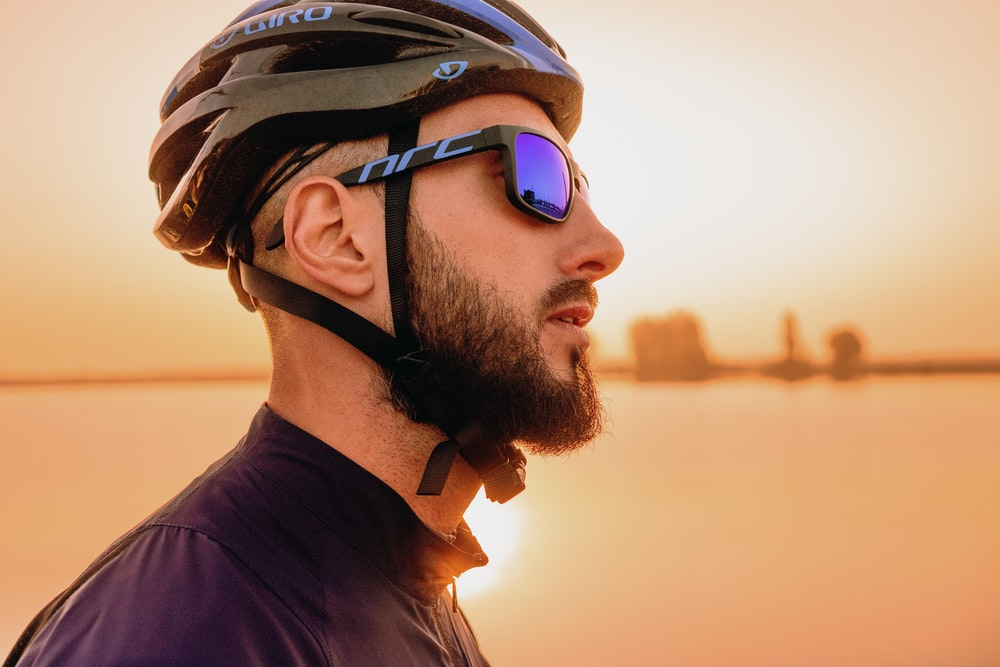helmet: (147, 1, 625, 452)
